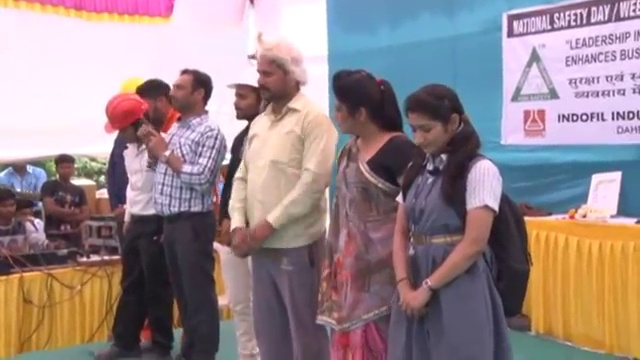helmet: (100, 95, 147, 136), (227, 65, 259, 90)
helmet_off: (329, 62, 399, 158), (402, 80, 473, 166), (249, 43, 309, 103), (168, 66, 211, 123), (134, 79, 176, 132), (0, 189, 20, 224), (54, 156, 76, 183), (15, 200, 37, 223)
helmet_on: (100, 91, 151, 149), (225, 60, 261, 123)
person: (393, 78, 531, 360), (226, 41, 339, 360), (314, 64, 420, 360), (139, 65, 226, 360), (95, 92, 175, 359), (217, 61, 261, 354), (0, 186, 68, 257), (39, 156, 87, 240), (0, 162, 45, 197)
